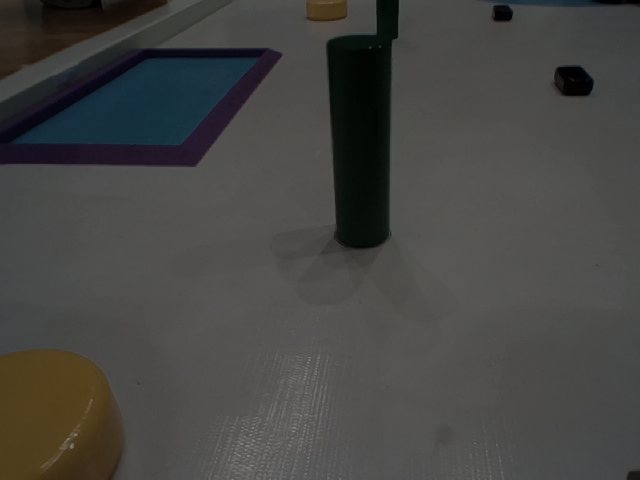black: (553, 60, 597, 103), (491, 5, 515, 25)
kuang: (1, 41, 289, 169)
yellow: (1, 346, 128, 477), (305, 1, 351, 22)
zhuzi: (323, 32, 395, 248), (375, 1, 402, 40)
